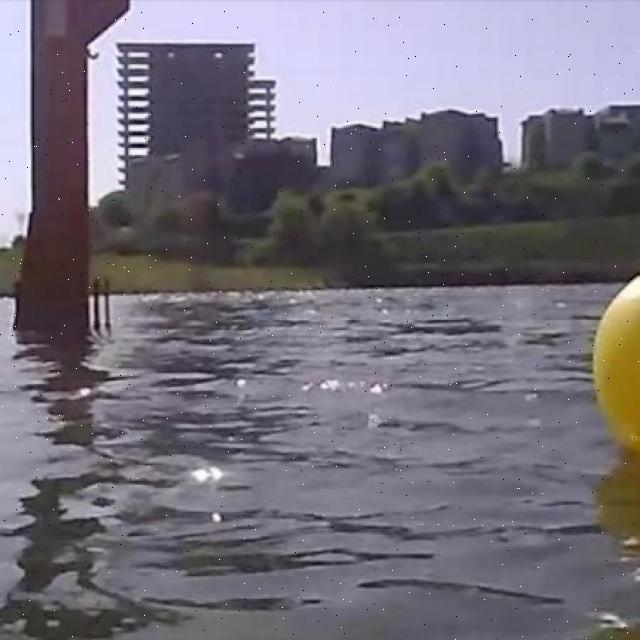buoy: (593, 265, 639, 459)
